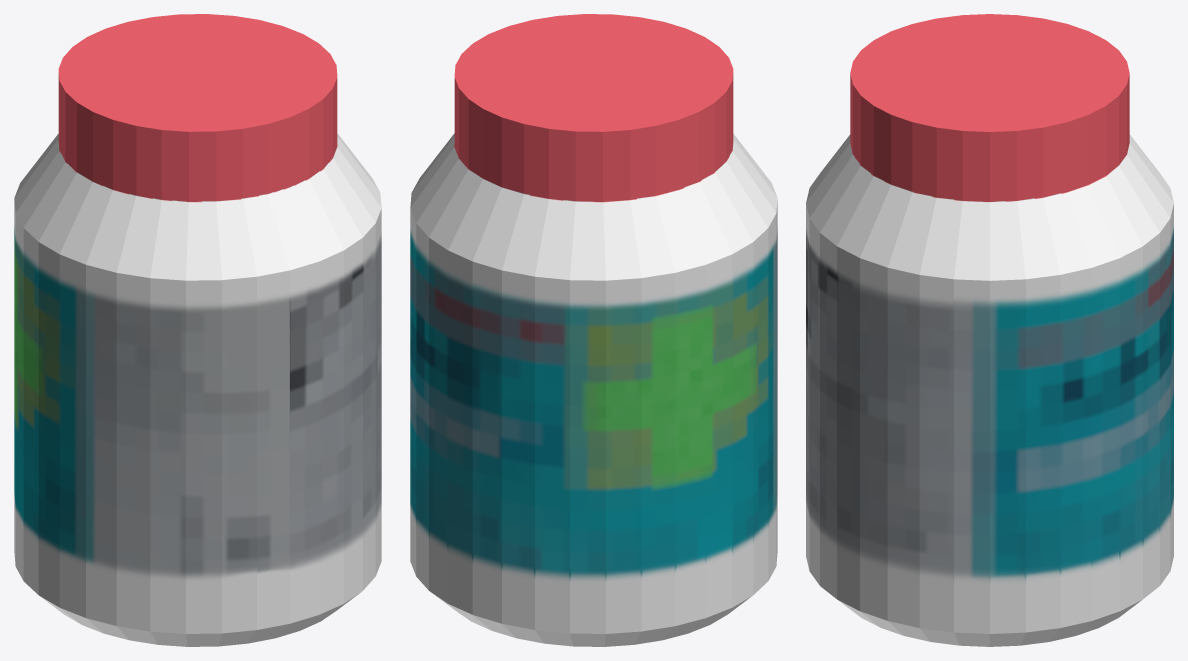
The model's file is pills.glb.
3 views of the same model, side by side, from view 1: azimuth 30°, elevation 25°; view 2: azimuth 150°, elevation 25°; view 3: azimuth 270°, elevation 25° (orthographic).
Visible parts, largest first — view 1: Cylinder; view 2: Cylinder; view 3: Cylinder.
Boxes of the visible parts, left/top/right/bottom form: Cylinder: left=14, top=14, right=381, bottom=646; Cylinder: left=410, top=14, right=777, bottom=646; Cylinder: left=806, top=14, right=1173, bottom=646.
Size of the model in its own units: 61.7 by 94.1 by 61.7.
1 material, 1 textured.
